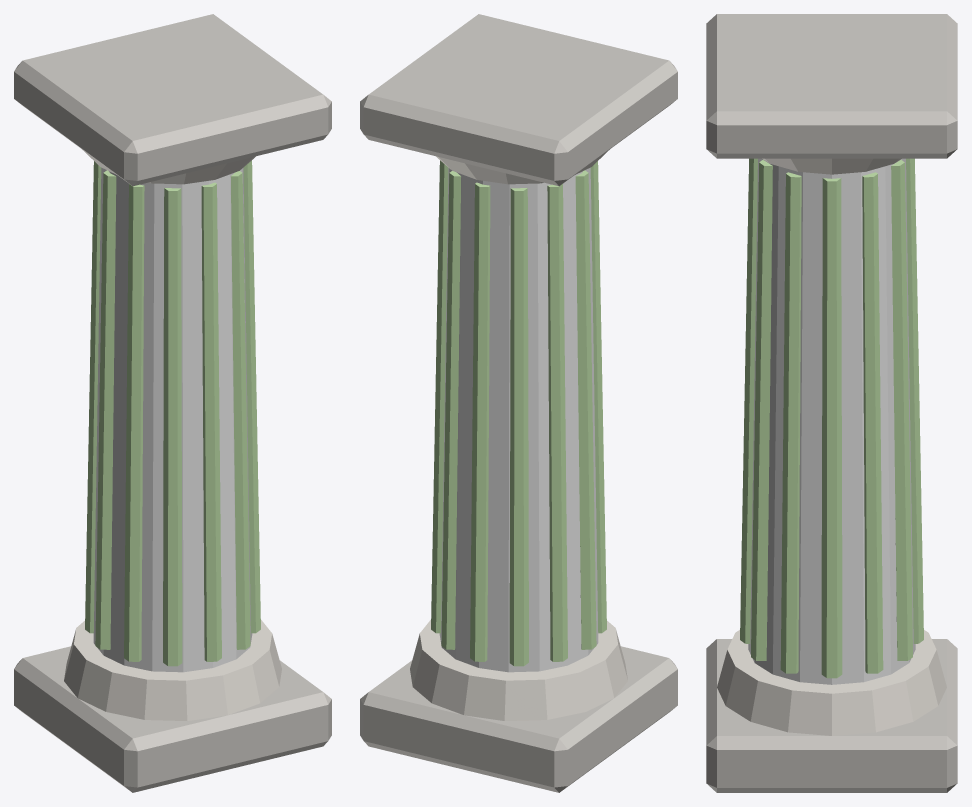
Rendered from prop_pillar.glb.
3 renders of one model, left to right at view 1: azimuth 30°, elevation 25°; view 2: azimuth 150°, elevation 25°; view 3: azimuth 270°, elevation 25°, orthographic. The views are drawn at different scales.
Visible parts, largest first — view 1: prop_pillar; view 2: prop_pillar; view 3: prop_pillar.
Part boxes in pixels (x1,y1,x2,y2): prop_pillar: (14,14,331,792); prop_pillar: (360,14,677,792); prop_pillar: (706,14,957,792).
Size of the model in its own units: 1.2 by 3.6 by 1.2.
